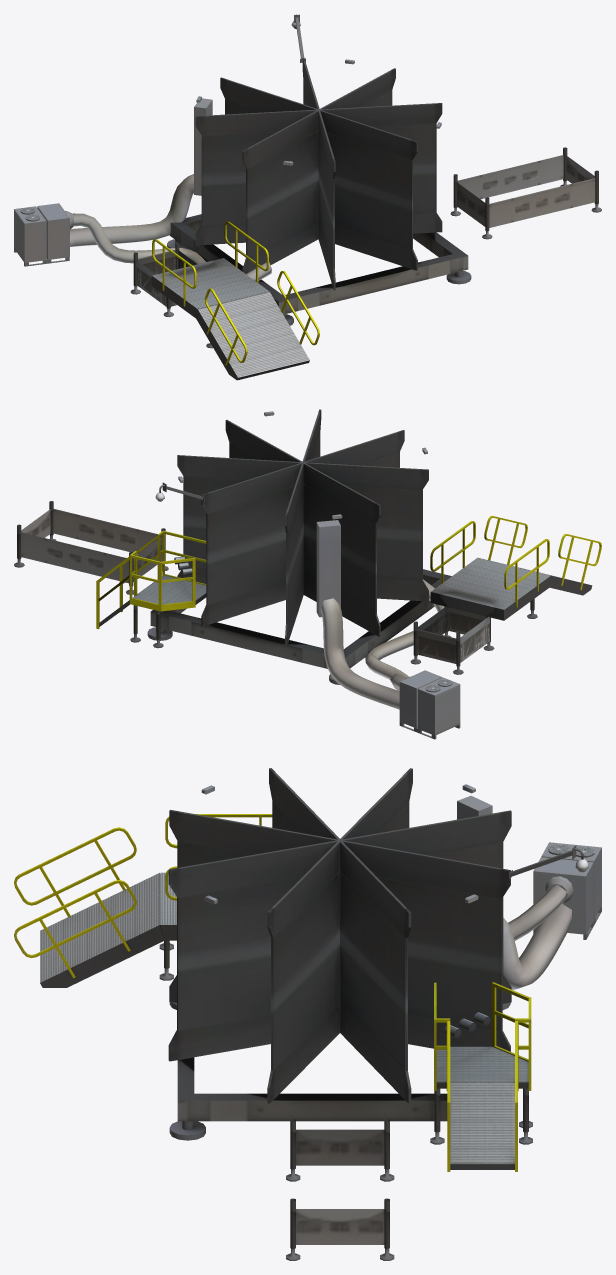
Rendered from hdu2.glb.
3 renders of one model, top to bottom at view 1: azimuth 30°, elevation 25°; view 2: azimuth 150°, elevation 25°; view 3: azimuth 270°, elevation 25°, orthographic. The views are drawn at different scales.
Visible parts, largest first — view 1: HDU_lowRez_part2; view 2: HDU_lowRez_part2; view 3: HDU_lowRez_part2.
Part boxes in pixels (<box>): HDU_lowRez_part2: <box>14,14,601,380</box>; HDU_lowRez_part2: <box>14,409,601,739</box>; HDU_lowRez_part2: <box>14,768,601,1260</box>.
Bounding box in the file's own units: 656 × 226 × 459.
1 material, 1 textured.
